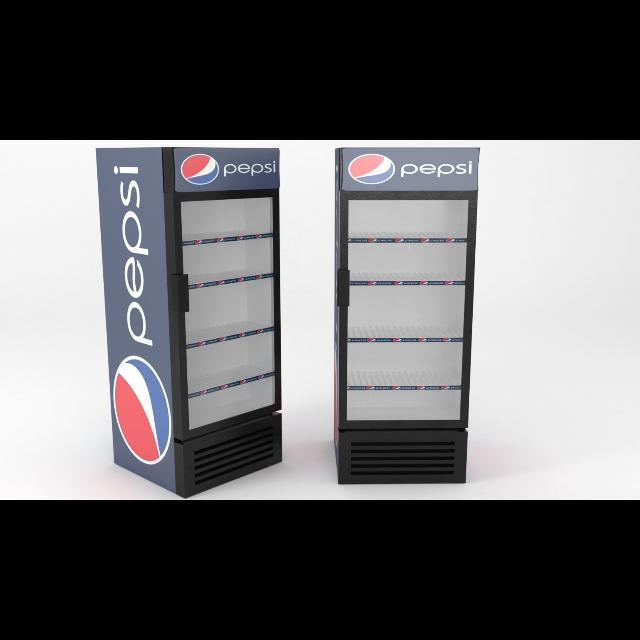Cooling-Display: (92, 141, 286, 487), (332, 143, 480, 489)
